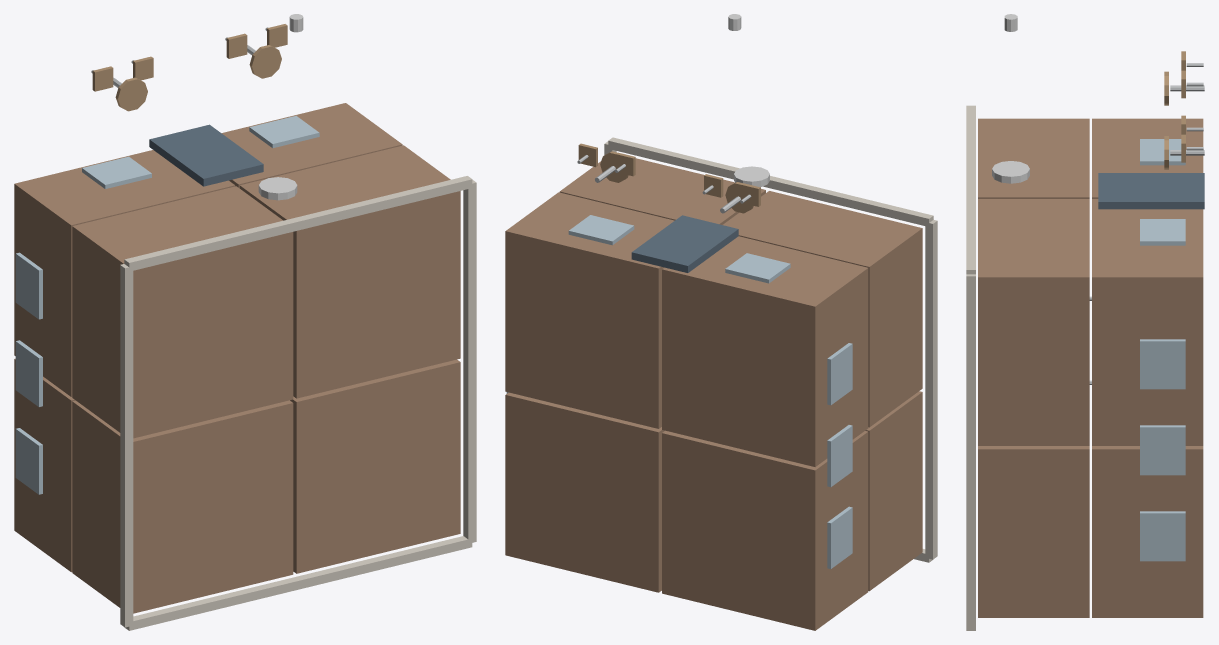
The model's file is building-coffee-shop.glb.
3 views of the same model, side by side, from view 1: azimuth 30°, elevation 25°; view 2: azimuth 150°, elevation 25°; view 3: azimuth 270°, elevation 25° (orthographic). The views are drawn at different scales.
Parts seen in each view (by area): view 1: world; view 2: world; view 3: world.
Part boxes in pixels (x1,y1,x2,y2): world: (14,14,476,630); world: (505,14,937,630); world: (966,14,1204,630).
Bounding box in the file's own units: 10.5 × 15.73 × 6.28.
